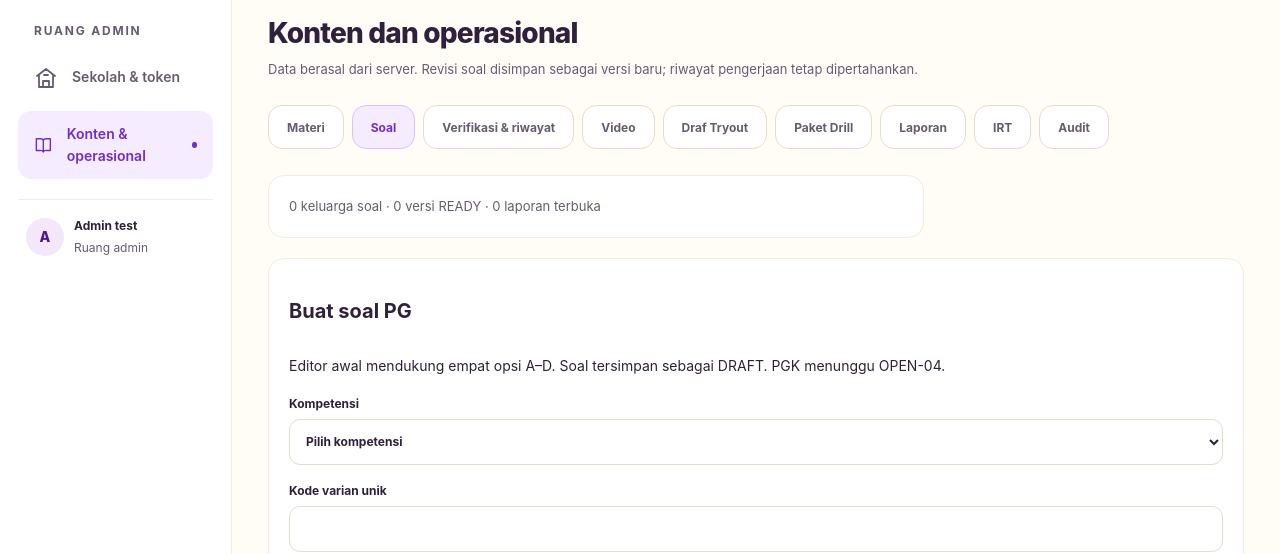
Test: Admin content UI › publishes a Drill draft through the existing Admin endpoint
The width and height of the screenshot is (1280, 554).
Click the button "Paket Drill". click: coordinates (824, 127)
box: [775,105,872,149]
(page scrolled)
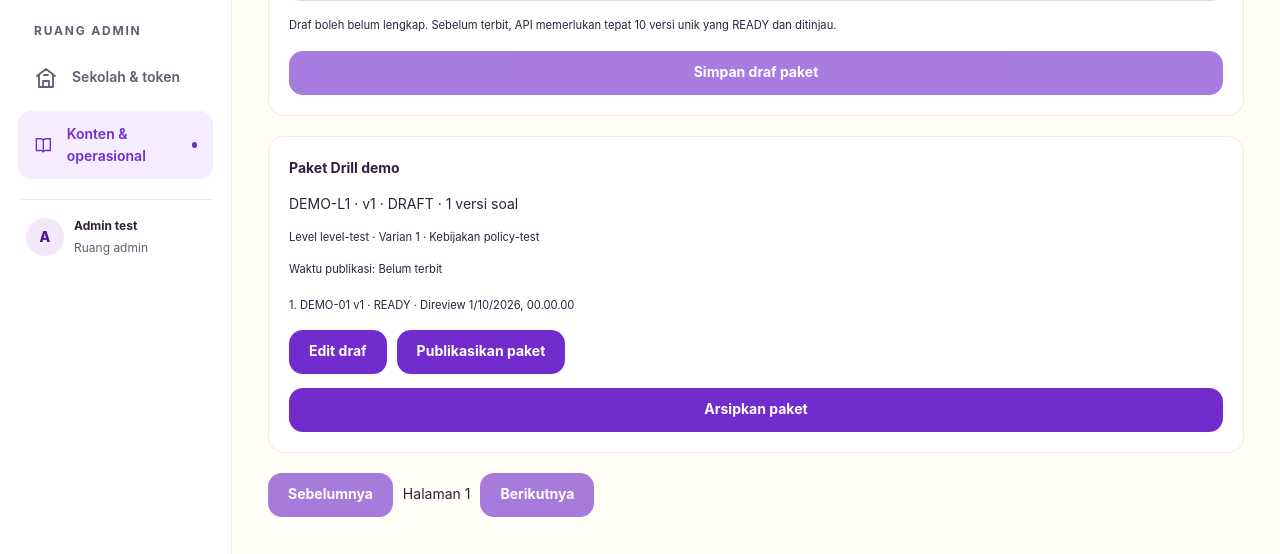
Click the button "Publikasikan paket". click: coordinates (481, 352)
box: [397,330,565,374]
(page scrolled)
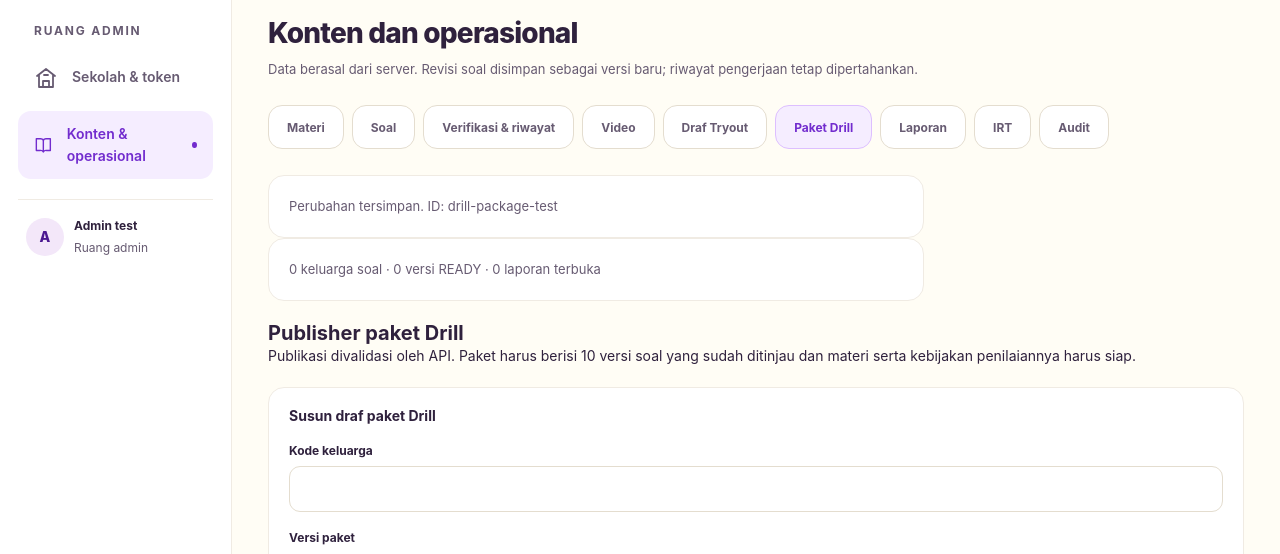
Expected: the text "Perubahan tersimpan. ID: drill-package-test" is shown, [268,175,924,238]
